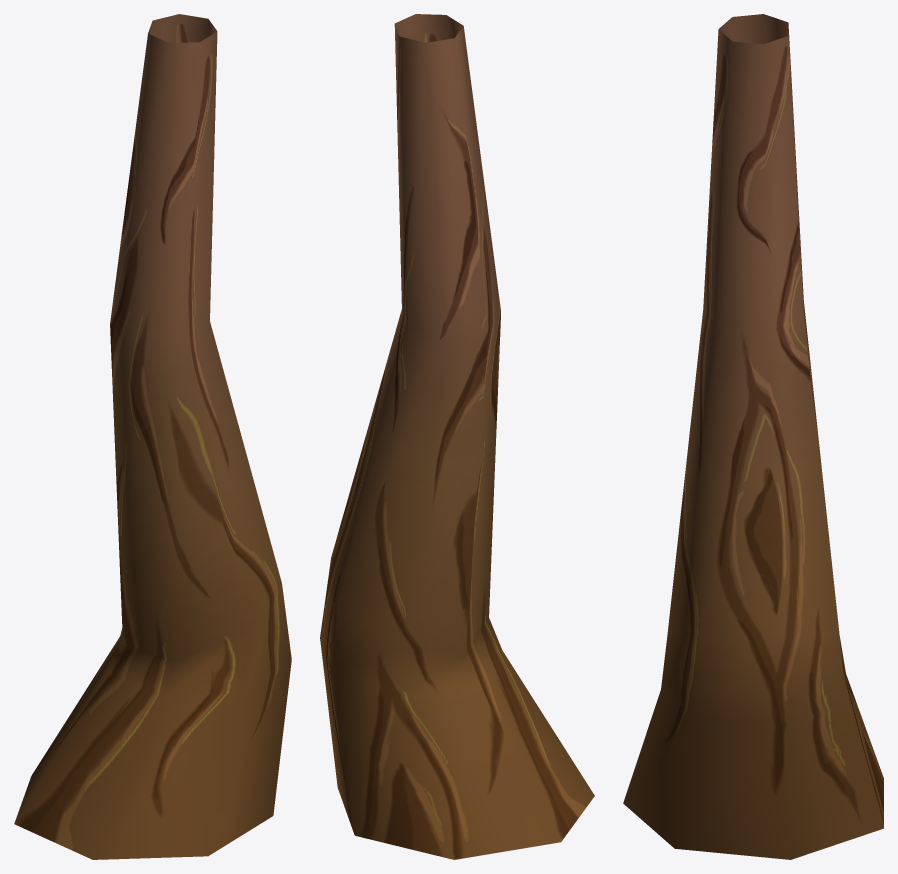
The model's file is Tronco_1.fbx.
3 views of the same model, side by side, from view 1: azimuth 30°, elevation 25°; view 2: azimuth 150°, elevation 25°; view 3: azimuth 270°, elevation 25° (orthographic). The views are drawn at different scales.
Parts seen in each view (by area): view 1: Tronco_1; view 2: Tronco_1; view 3: Tronco_1.
Boxes of the visible parts, x1,y1,x2,y2 form: Tronco_1: (14, 14, 291, 859); Tronco_1: (320, 14, 594, 859); Tronco_1: (623, 14, 883, 859).
Size of the model in its own units: 405 by 1201 by 358.
